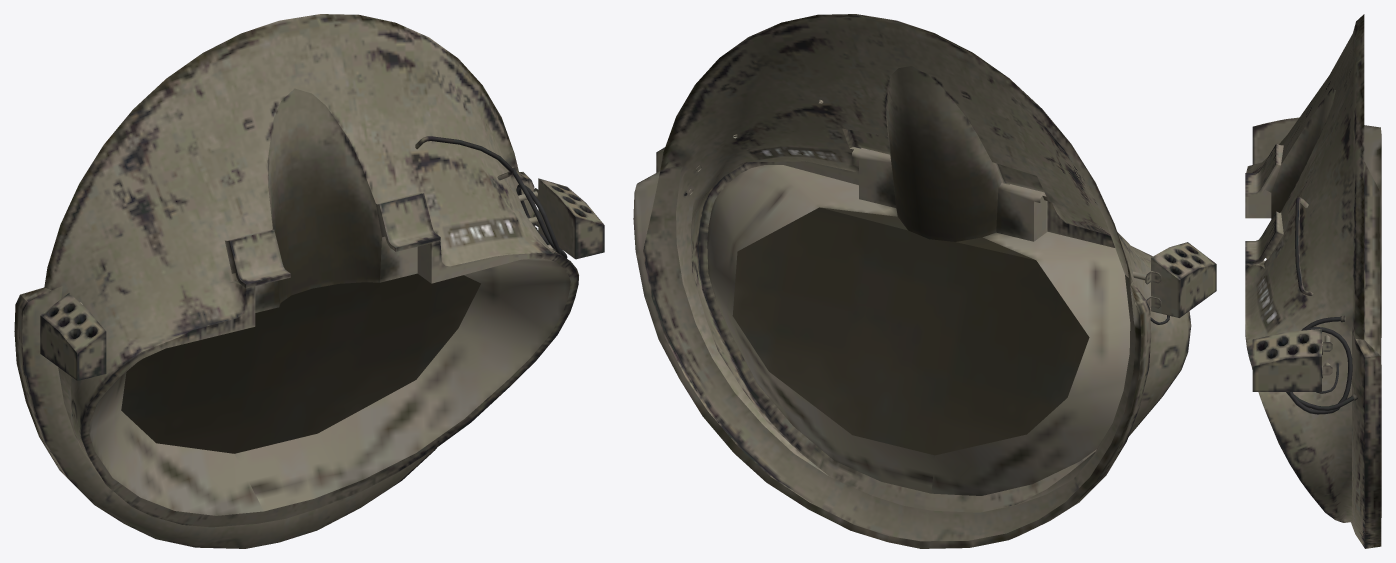
The model's file is Turret_01.glb.
3 renders of one model, left to right at view 1: azimuth 30°, elevation 25°; view 2: azimuth 150°, elevation 25°; view 3: azimuth 270°, elevation 25°, orthographic. The views are drawn at different scales.
Parts seen in each view (by area): view 1: set_0_group_0; view 2: set_0_group_0; view 3: set_0_group_0.
Part boxes in pixels (x1,y1,x2,y2): set_0_group_0: (14, 14, 604, 548); set_0_group_0: (633, 14, 1216, 548); set_0_group_0: (1245, 14, 1381, 548).
Bounding box in the file's own units: 2.19 × 2.07 × 0.5264.
1 material, 1 textured.
